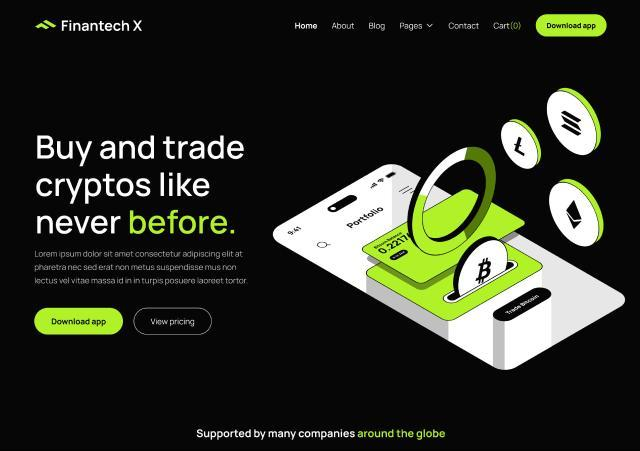button: (36, 309, 124, 336), (136, 309, 214, 335), (537, 15, 609, 37)
icon: (427, 23, 435, 29)
label: (56, 19, 147, 35), (399, 21, 425, 33), (493, 22, 523, 32), (448, 23, 481, 31), (295, 21, 320, 31), (332, 21, 357, 31), (370, 22, 388, 33)
